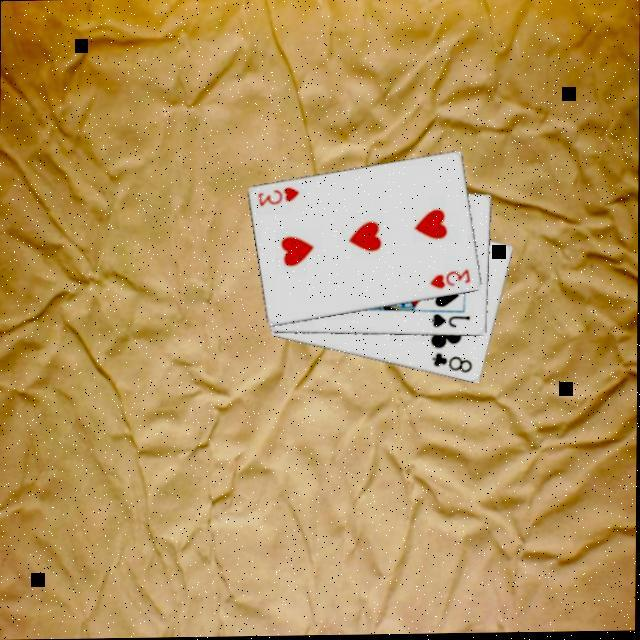3H: (425, 267, 472, 294), (254, 185, 301, 212)
8C: (428, 352, 474, 379)
JS: (426, 312, 471, 333)
